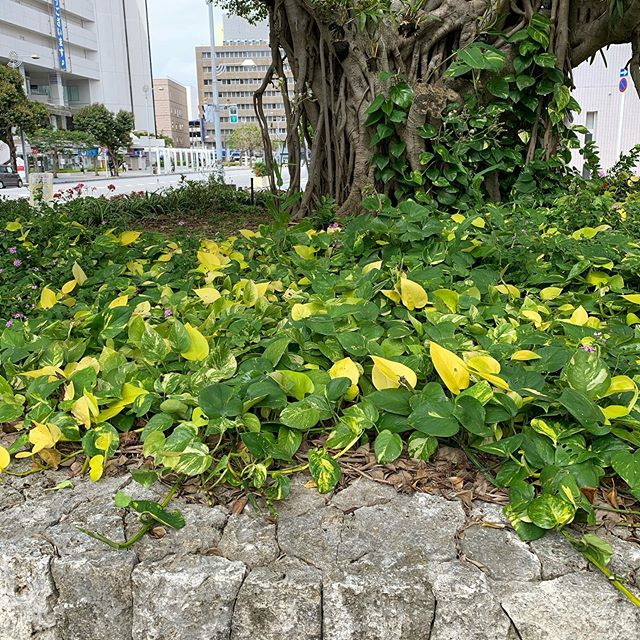building: (1, 1, 151, 145), (196, 34, 298, 182), (154, 78, 187, 154)
rocks: (24, 493, 623, 640)
tree: (258, 1, 587, 249)
vegetation: (29, 203, 640, 501)
